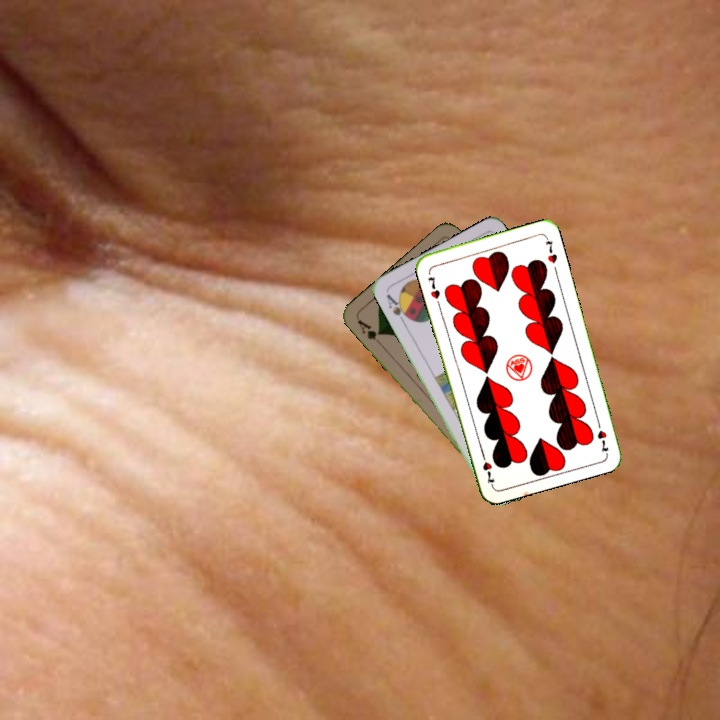GA: (353, 316, 384, 342)
H7: (593, 416, 611, 456), (424, 272, 443, 302)
SA: (382, 290, 413, 326)
